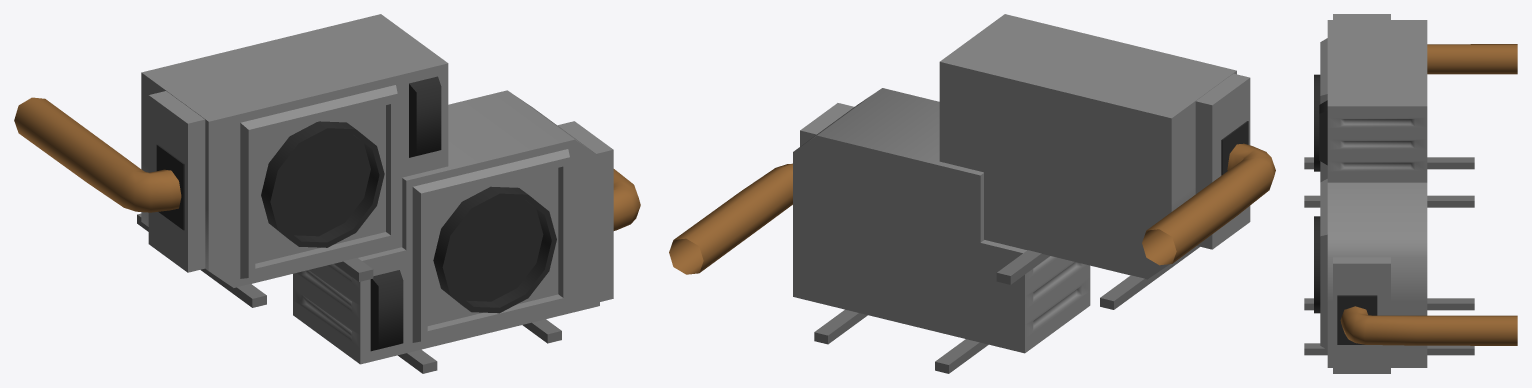
File: AC_Side.glb
3 renders of one model, left to right at view 1: azimuth 30°, elevation 25°; view 2: azimuth 150°, elevation 25°; view 3: azimuth 270°, elevation 25°, orthographic. The views are drawn at different scales.
Parts seen in each view (by area): view 1: AC_Side; view 2: AC_Side; view 3: AC_Side.
Part boxes in pixels (x1,y1,x2,y2): AC_Side: [14, 14, 640, 373]; AC_Side: [669, 14, 1275, 373]; AC_Side: [1304, 14, 1517, 373].
Size of the model in its own units: 1.62 by 0.8506 by 0.7709.
